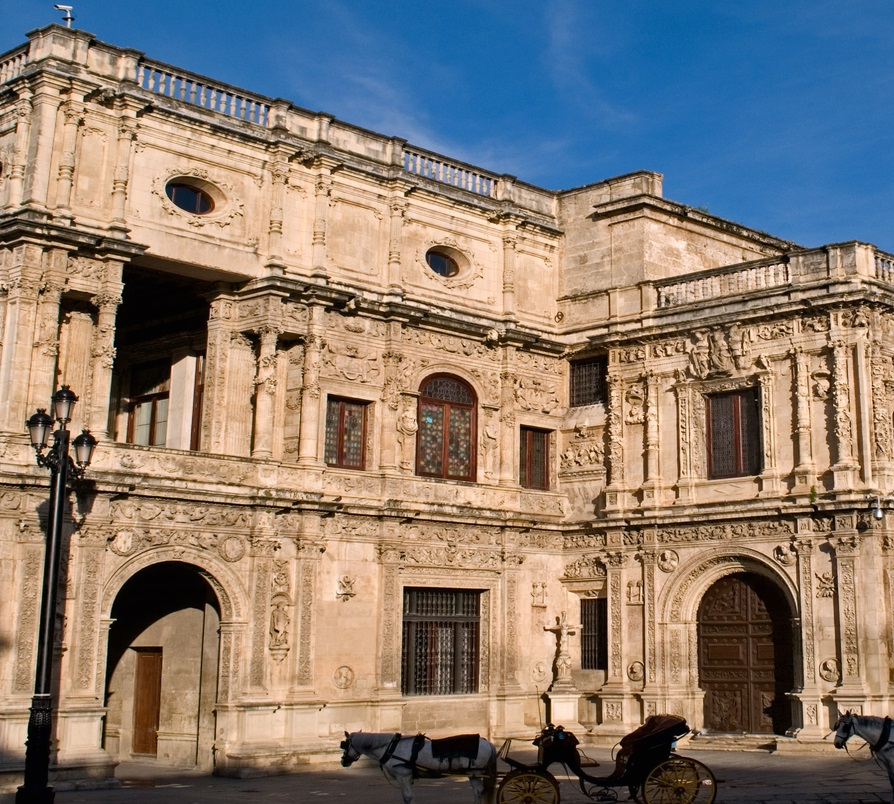arco-medio-punto: (97, 541, 253, 632), (653, 543, 804, 628), (411, 361, 490, 409)
ojo-de-buey: (160, 168, 232, 220), (423, 239, 473, 283)
vano-adintelado: (372, 561, 510, 704), (671, 368, 776, 490), (313, 375, 386, 478), (508, 406, 566, 493)
